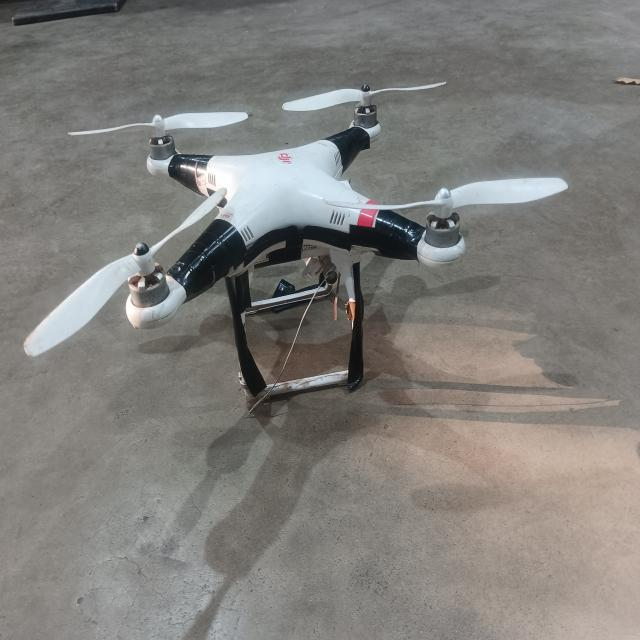drone: (16, 54, 581, 438)
